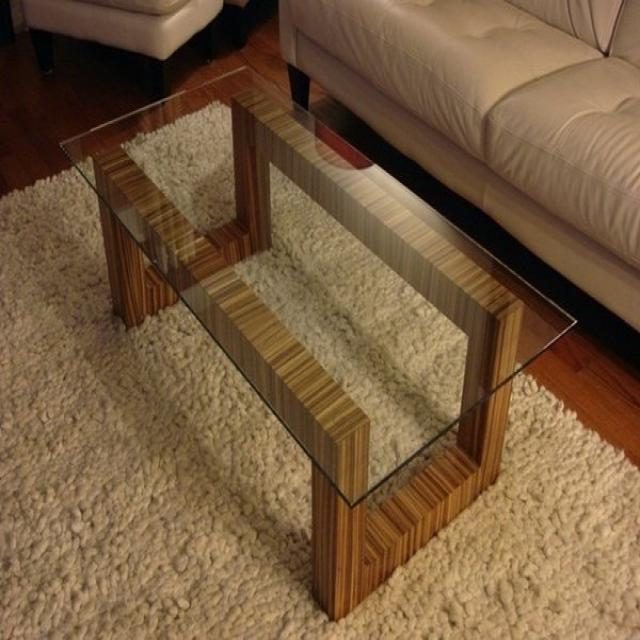table: (47, 53, 588, 624)
